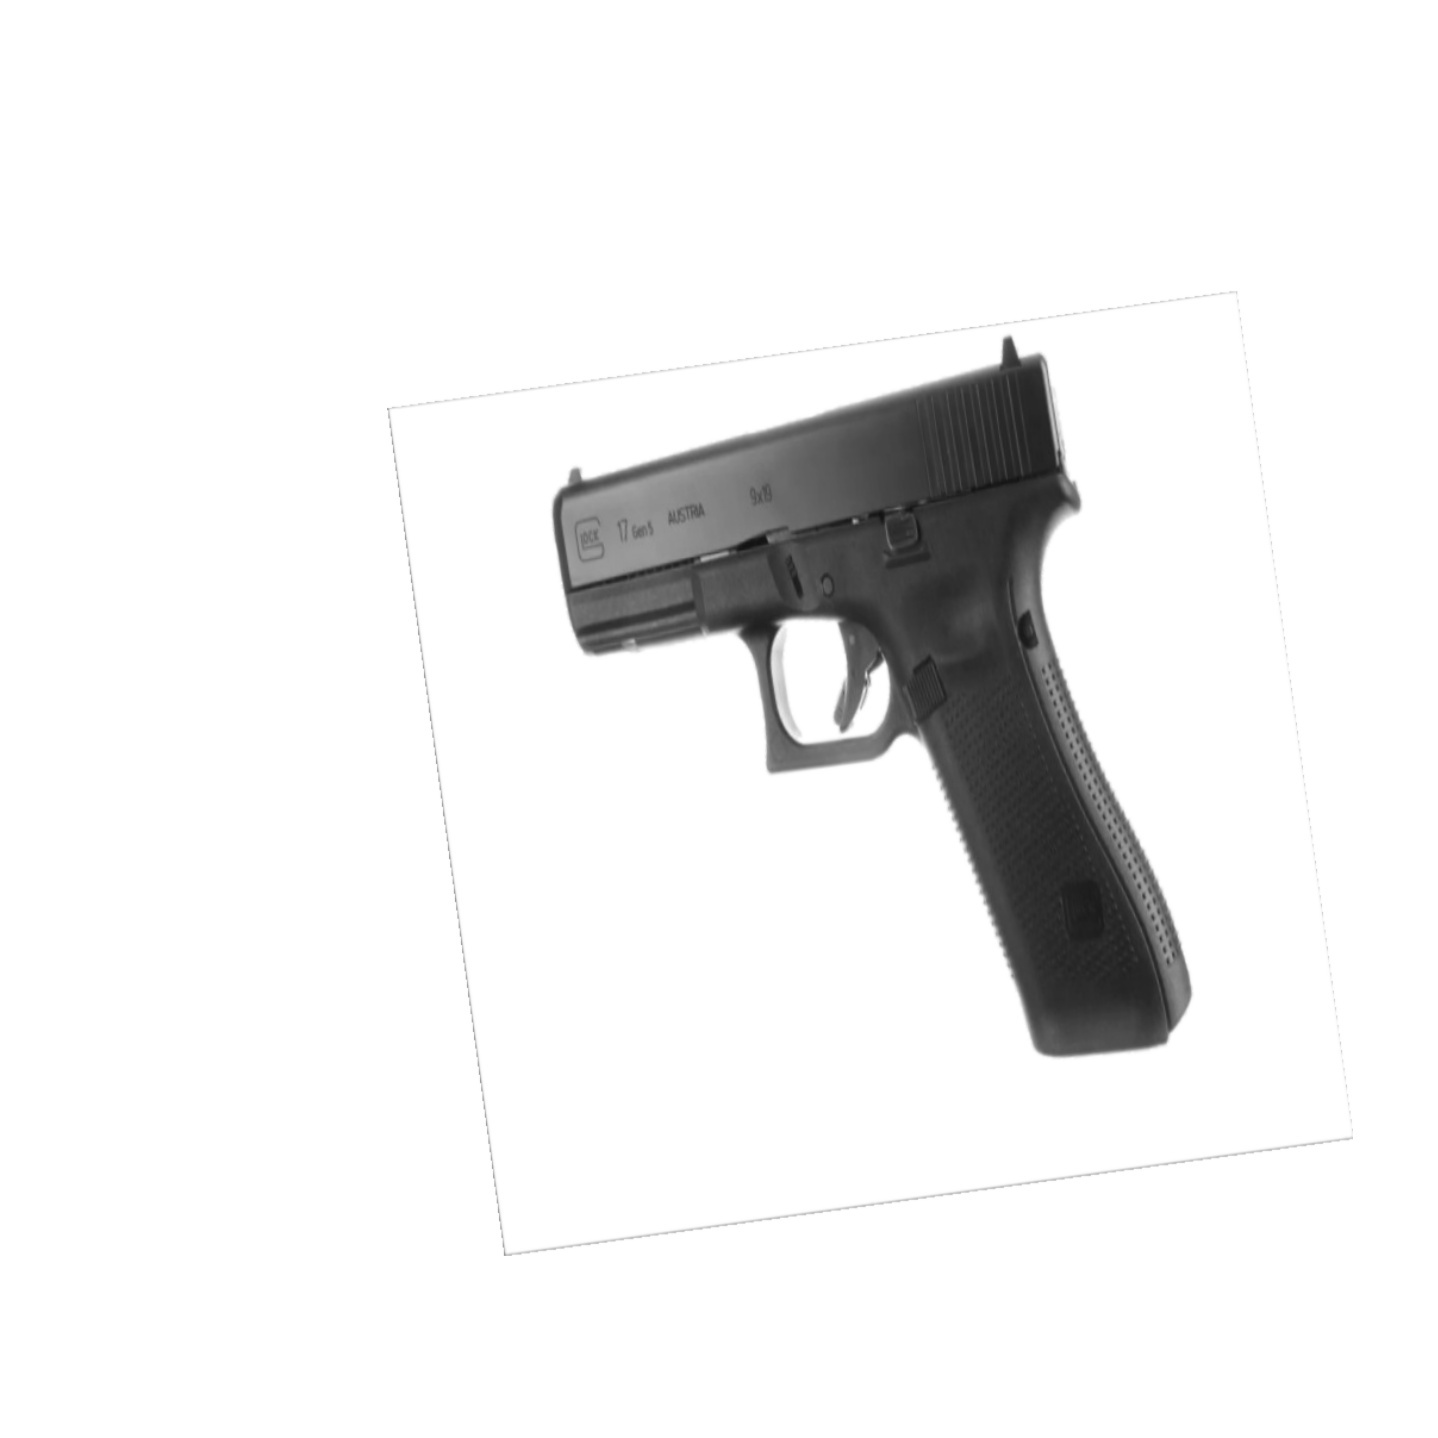gun: (546, 329, 1204, 1069)
